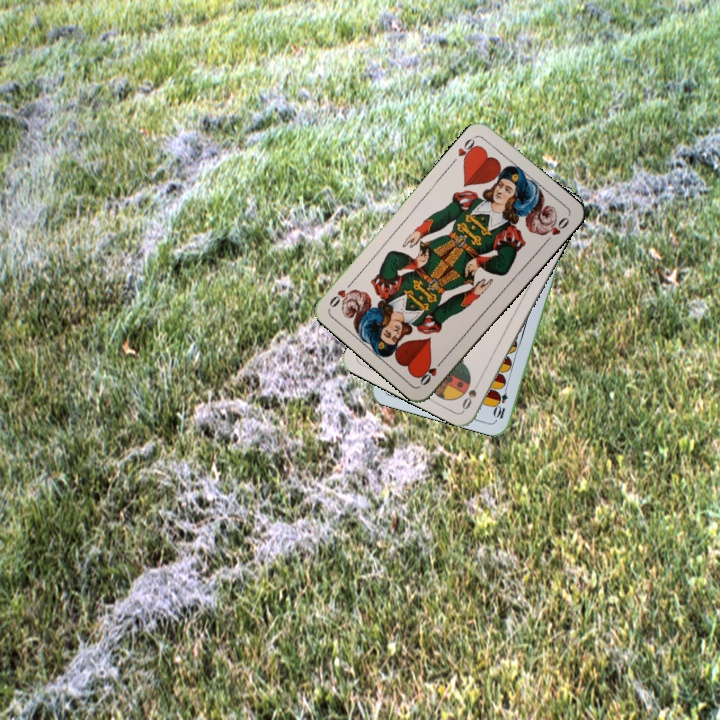E10: (491, 381, 511, 421)
HO: (416, 354, 447, 388), (454, 132, 481, 166)
SO: (458, 375, 483, 412)
